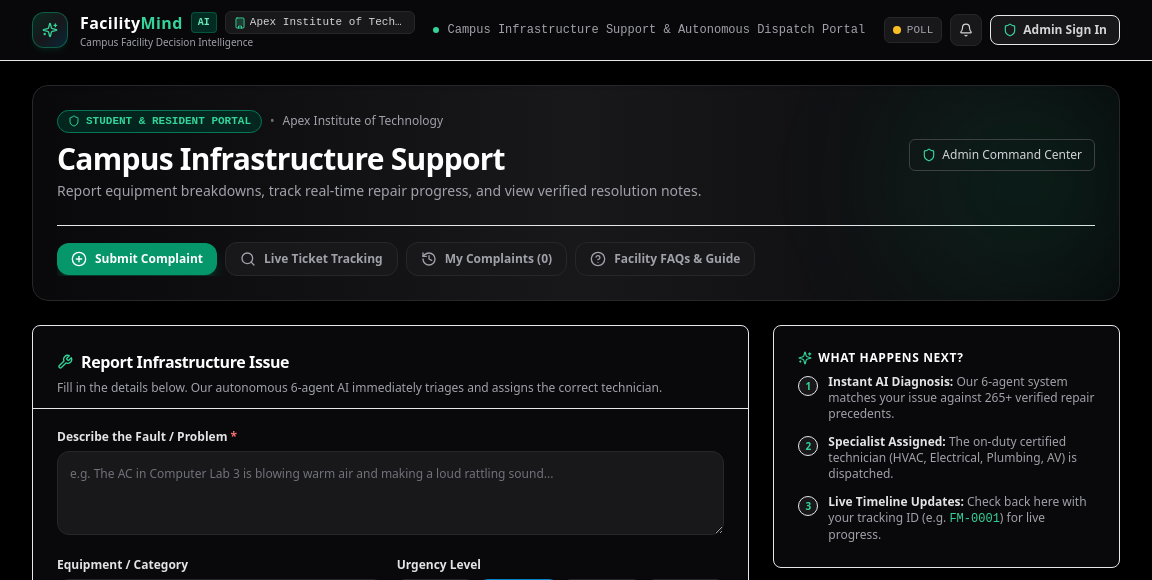
it: FacilityMind AI Platform UI › allows navigating to File Complaint tab in Admin Mode
Click the button "Admin Sign In" at [1055, 30], box [990,15,1120,45]
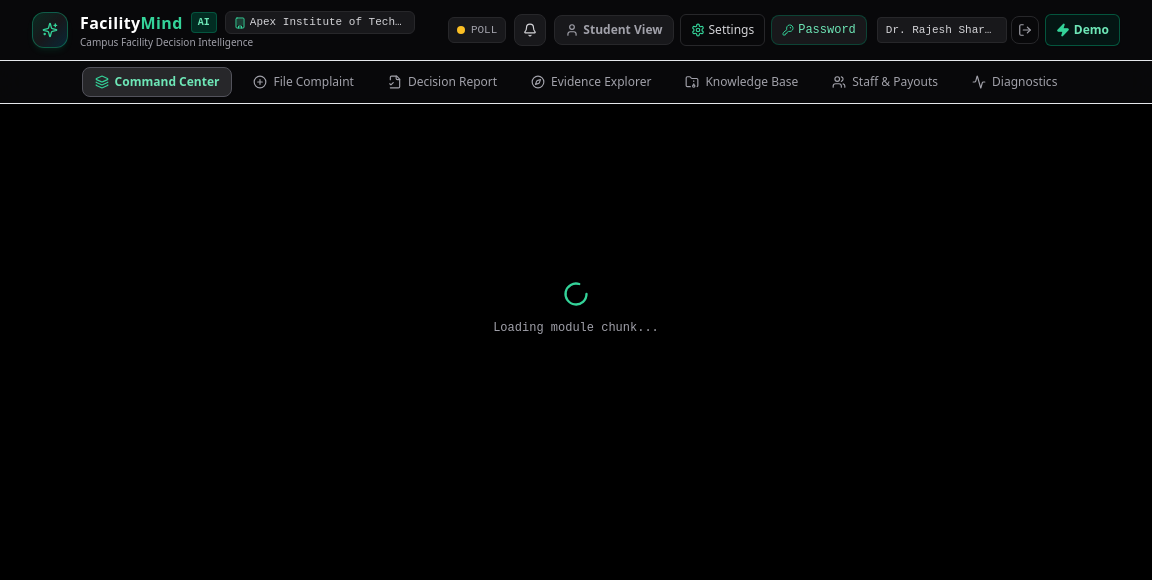
Click the button "File Complaint" at [304, 82], box [240,67,367,97]
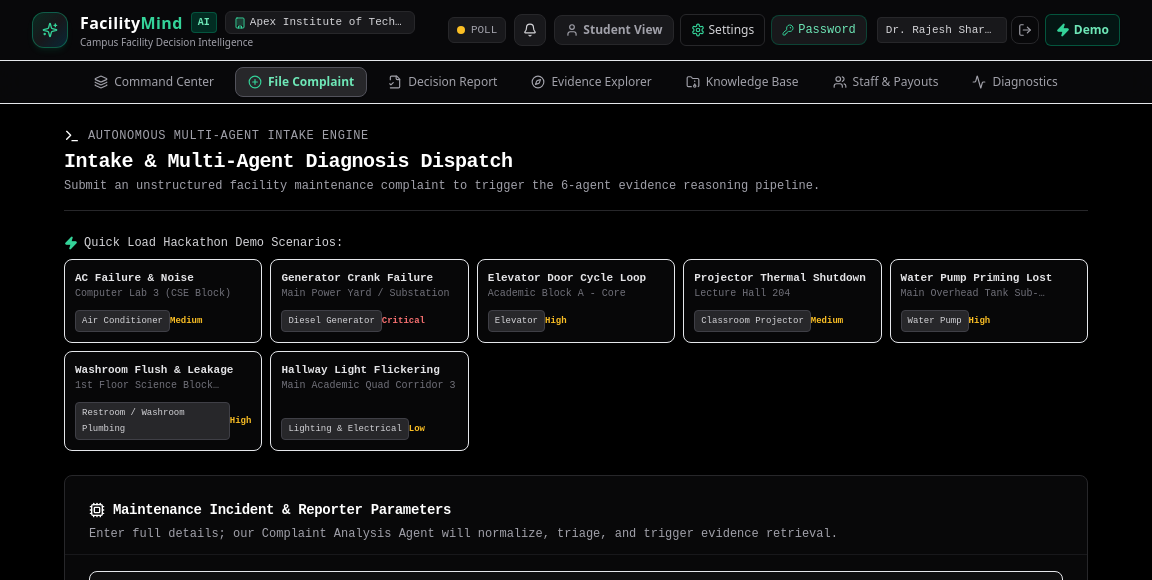
Check: the text "Quick Load Hackathon Demo Scenarios:" is shown, box [64,236,343,250]
